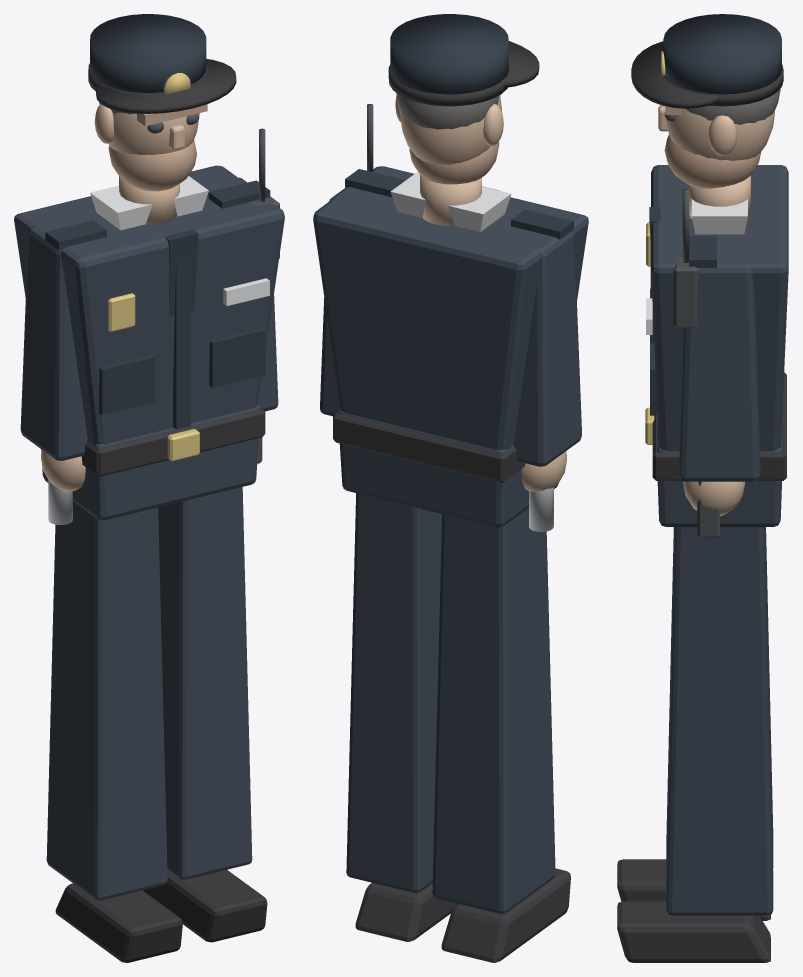
The model's file is guard.glb.
The picture shows the model from 3 angles, left to right: view 1: azimuth 30°, elevation 25°; view 2: azimuth 150°, elevation 25°; view 3: azimuth 270°, elevation 25°; orthographic projection.
Parts seen in each view (by area): view 1: body_UniformNavy, legL, legR, body_Leather, body_UniformDark, armL, body_Skin, body_Shirt, body_SkinDark, body_Badge, armR, body_Radio (+1 smaller); view 2: body_UniformNavy, legL, legR, body_Leather, armL, body_UniformDark, body_Skin, body_Shirt, body_Hair, armR, body_SkinDark, body_Steel; view 3: legR, body_UniformNavy, armR, body_Leather, body_UniformDark, body_Skin, body_Radio, body_SkinDark, body_Shirt, body_Hair, legL, body_Badge.
Part boxes in pixels (<box>): body_UniformNavy: <box>14,165,284,520</box>; legL: <box>46,501,167,900</box>; legR: <box>158,487,252,879</box>; body_Leather: <box>55,59,267,962</box>; body_UniformDark: <box>45,14,270,429</box>; armL: <box>20,218,87,460</box>; body_Skin: <box>41,104,199,491</box>; body_Shirt: <box>90,176,269,305</box>; body_SkinDark: <box>108,104,207,191</box>; body_Badge: <box>108,72,199,461</box>; armR: <box>235,177,278,411</box>; body_Radio: <box>147,114,279,463</box>; body_UniformNavy: <box>313,166,588,527</box>; legL: <box>432,508,555,913</box>; legR: <box>346,493,441,892</box>; body_Leather: <box>333,41,570,962</box>; armL: <box>506,228,581,466</box>; body_UniformDark: <box>345,14,573,239</box>; body_Skin: <box>395,95,566,491</box>; body_Shirt: <box>390,172,511,231</box>; body_Hair: <box>396,93,499,129</box>; armR: <box>320,187,383,416</box>; body_SkinDark: <box>409,141,499,184</box>; body_Steel: <box>529,487,553,531</box>; legR: <box>666,527,773,915</box>; body_UniformNavy: <box>651,165,788,526</box>; armR: <box>679,247,760,481</box>; body_Leather: <box>617,41,786,962</box>; body_UniformDark: <box>649,14,781,415</box>; body_Skin: <box>658,105,774,516</box>; body_Radio: <box>664,112,719,537</box>; body_SkinDark: <box>664,106,760,188</box>; body_Shirt: <box>646,199,747,334</box>; body_Hair: <box>685,88,780,124</box>; legL: <box>666,527,773,868</box>; body_Badge: <box>645,51,665,444</box>.
Bounding box in the file's own units: 0.4644 × 1.74 × 0.3039.
